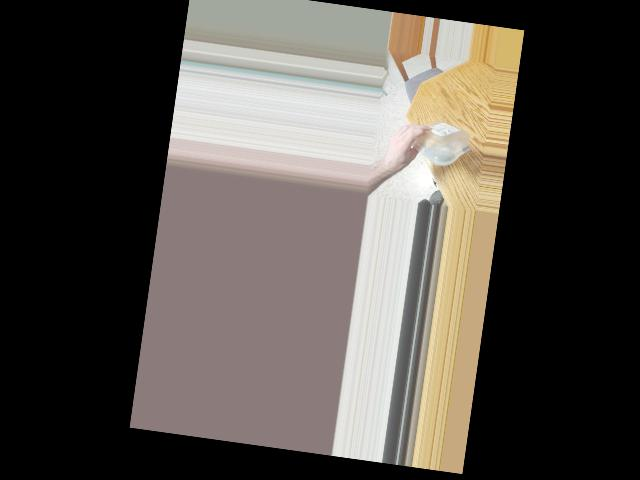cheese: (401, 118, 469, 163)
